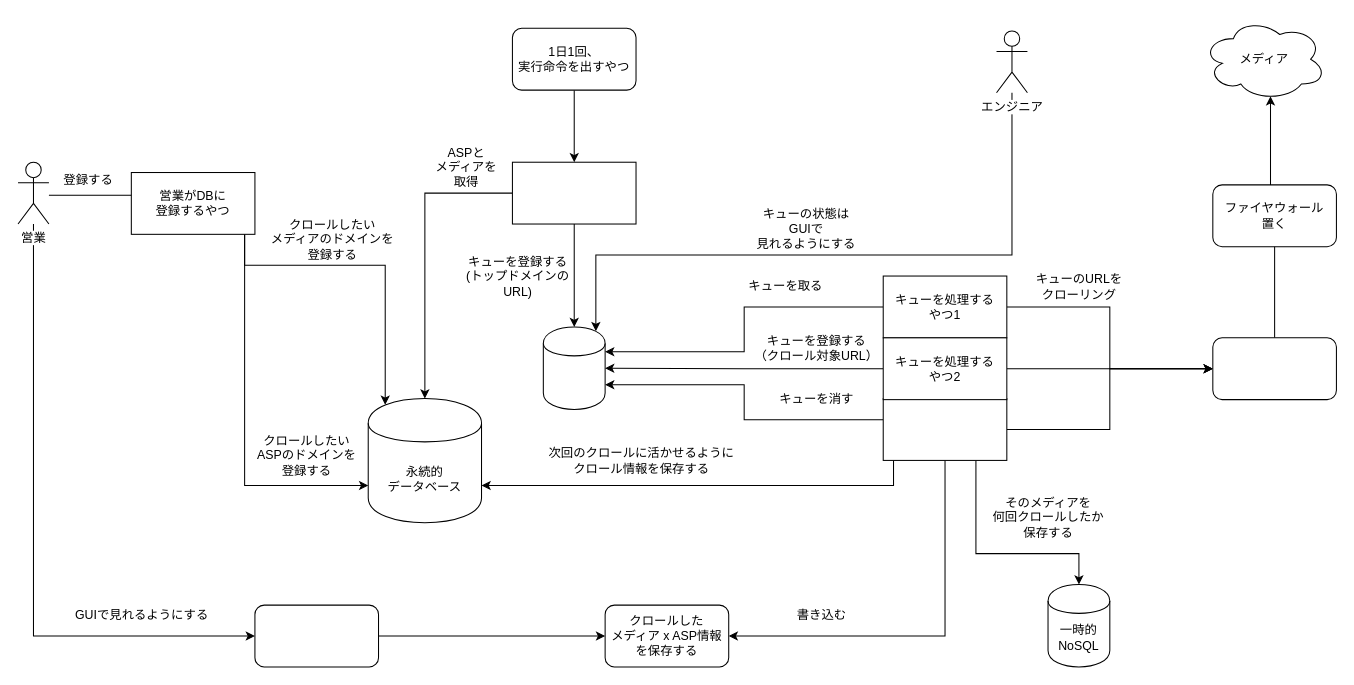
Image size: 1354x685. Some labels were removed from this diagram. The centre of each missing label's shape, as x and y in pixels:
IP / UAを偽装する プロキシサーバ: the point at 1274,368
キューを 扱う: the point at 573,367
キューを処理する やつ3: the point at 944,429
クロールする管理を するやつ: the point at 573,192
可視化 できるやつ: the point at 316,635
